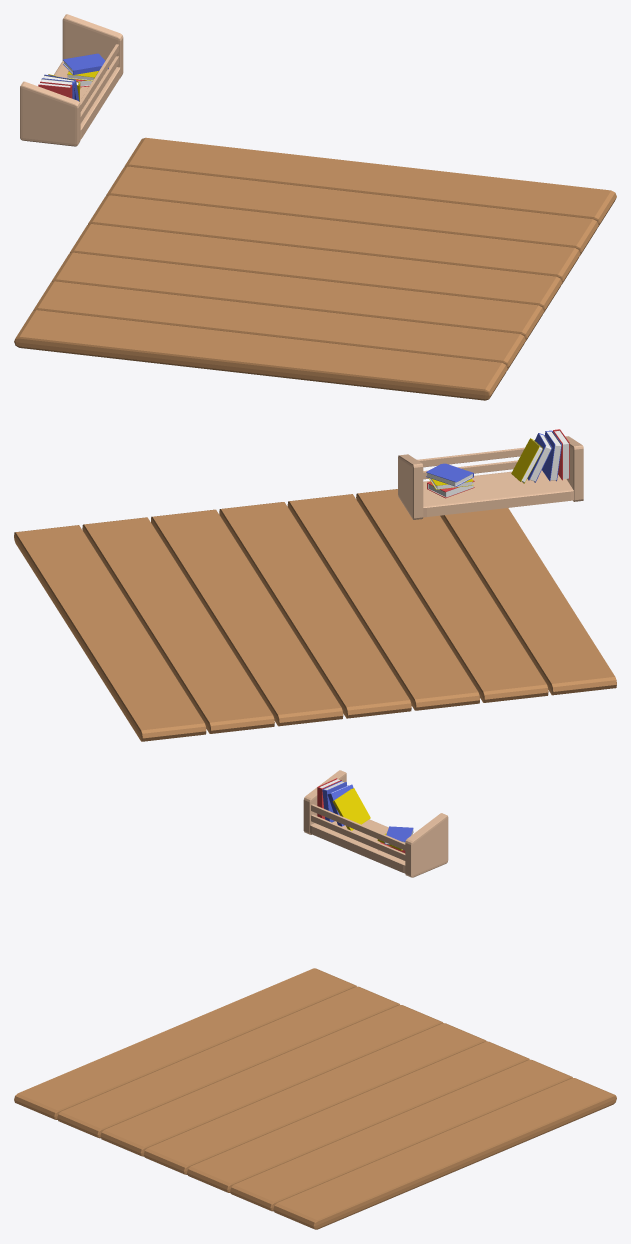
File: floor.glb
The picture shows the model from 3 angles, top to bottom: view 1: azimuth 30°, elevation 25°; view 2: azimuth 150°, elevation 25°; view 3: azimuth 270°, elevation 25°; orthographic projection. The views are drawn at different scales.
Visible parts, largest first — view 1: Floor; view 2: Floor; view 3: Floor.
Boxes of the visible parts, bbox=[...] form: Floor: bbox=[14, 14, 616, 400]; Floor: bbox=[14, 429, 616, 741]; Floor: bbox=[14, 770, 616, 1229].
Bounding box in the file's own units: 4.05 × 1.59 × 4.05.
